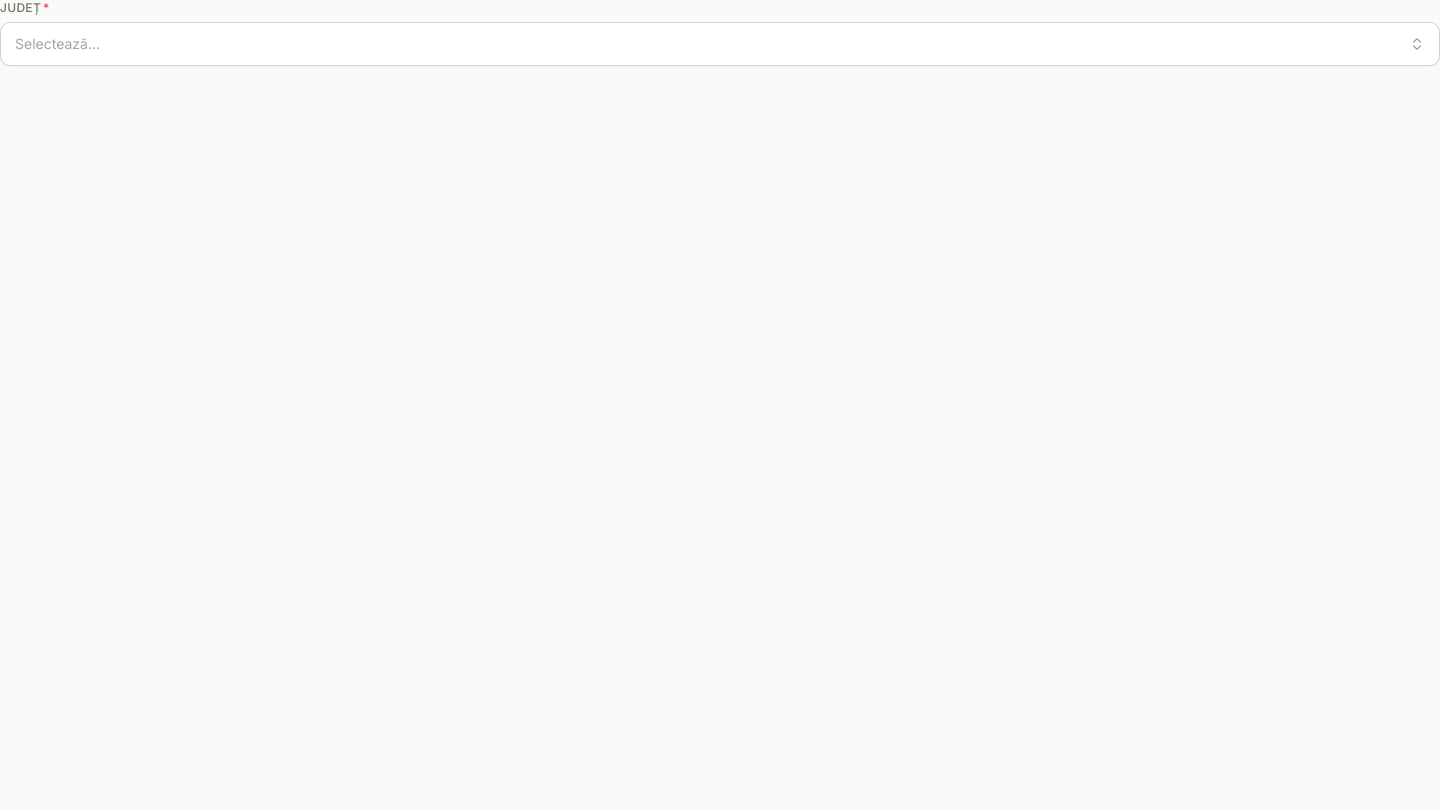
Scenario: typing filters options and Enter selects the highlighted one
Click the dropdown named "Județ" at (58, 44), box [0, 22, 1439, 66]
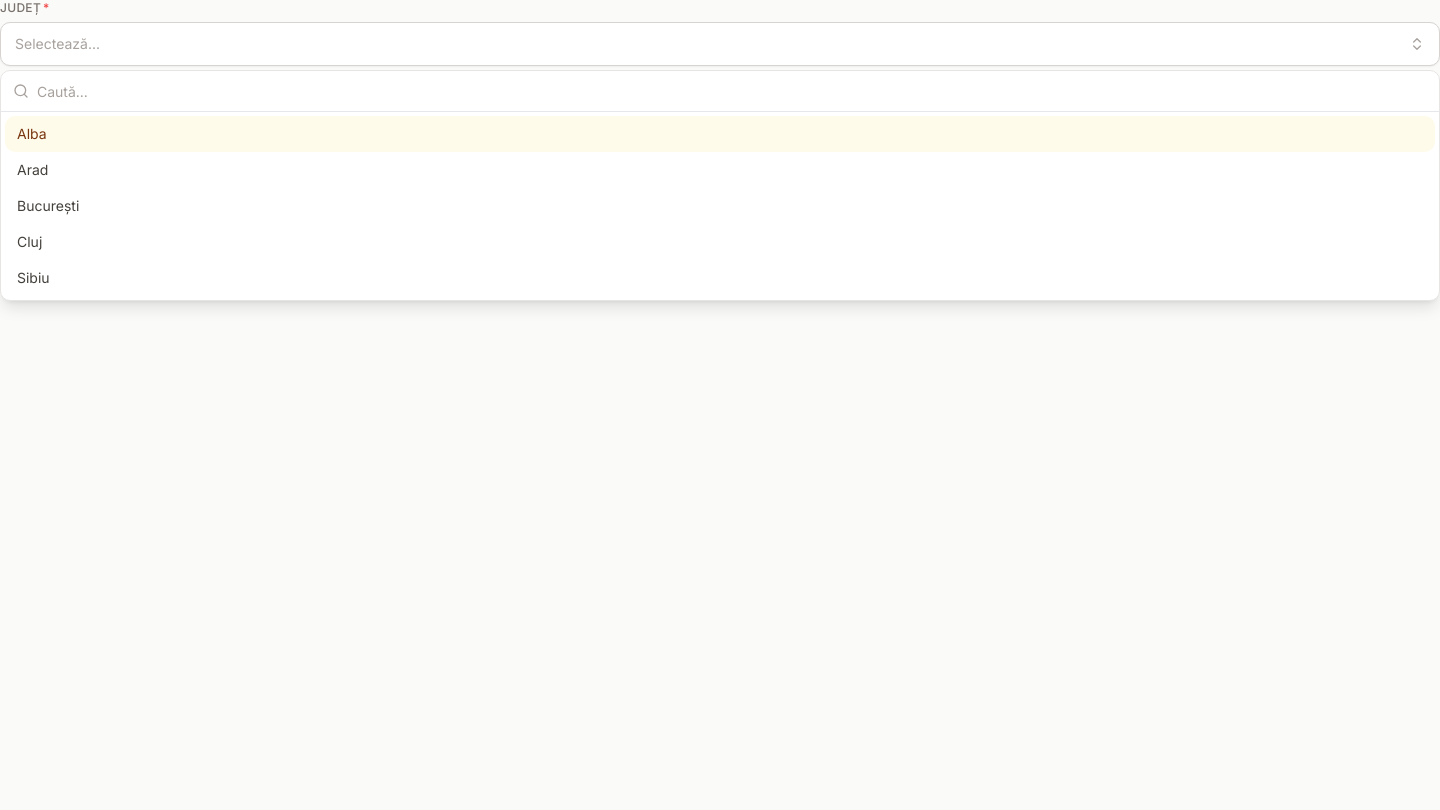
// The search input receives focus when the popover opens.
Type keys "clu"
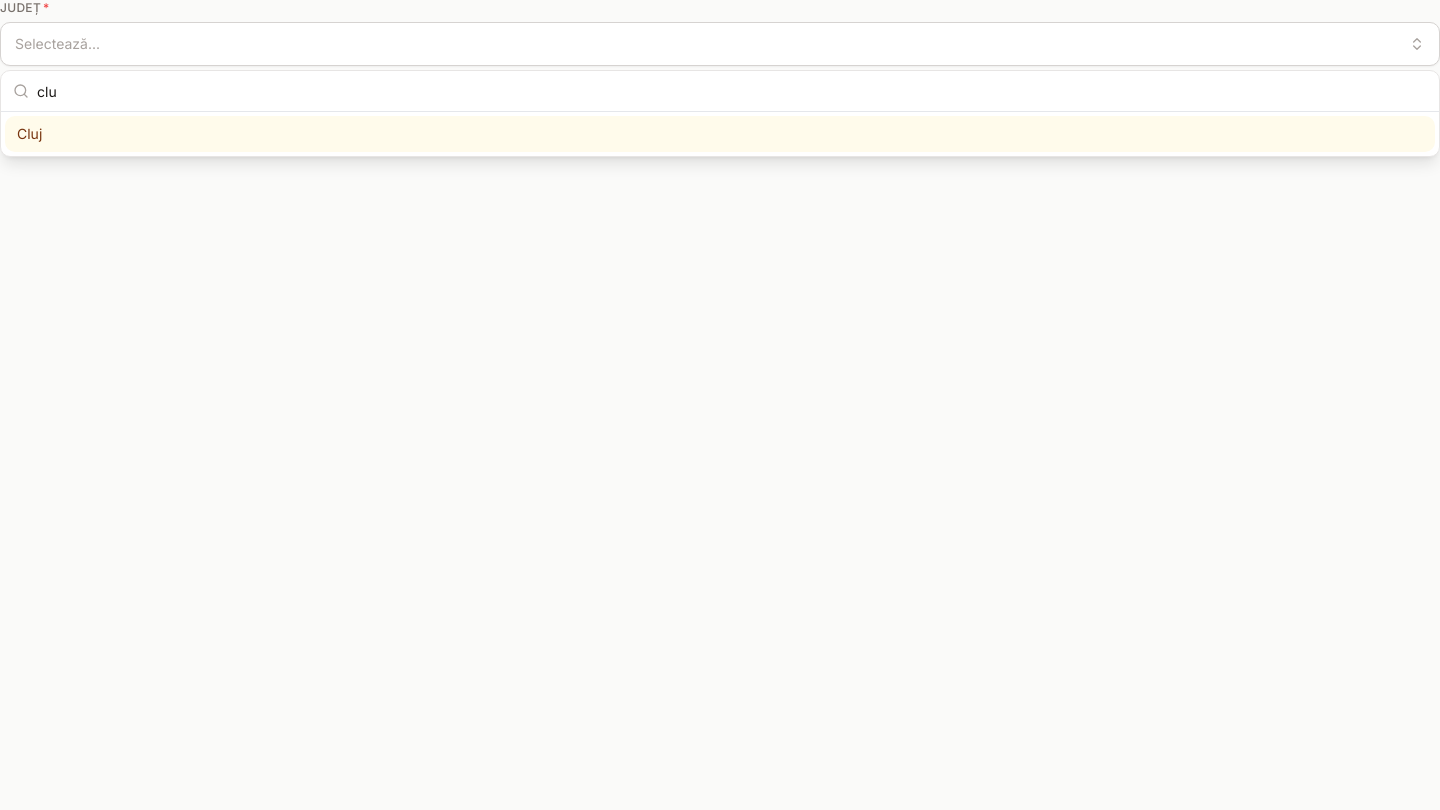
Result: the option "Cluj" is shown at [5, 116, 1435, 152]
Result: the option "Alba" is gone
Press Enter
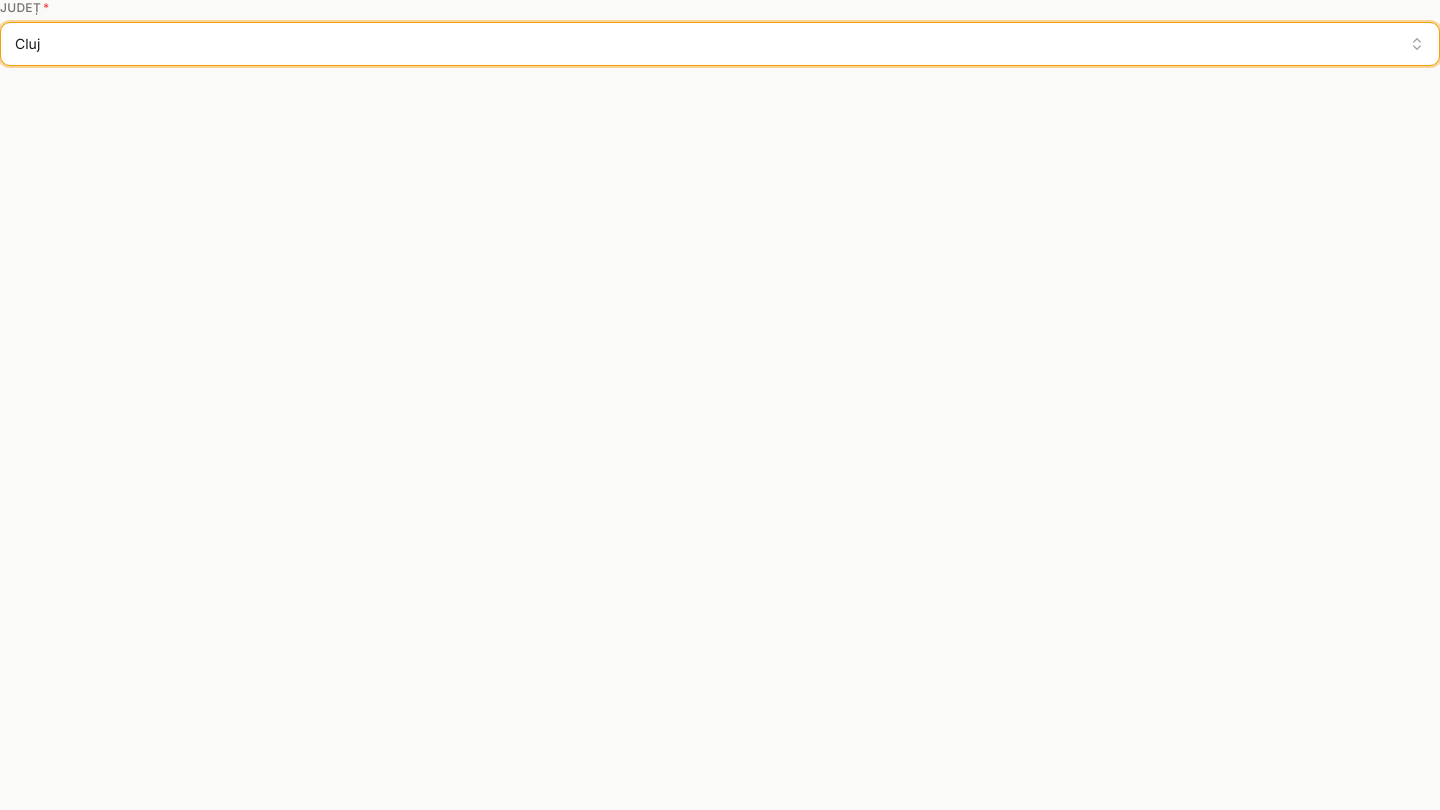
Result: the text "Cluj" is shown at [15, 34, 40, 54]
